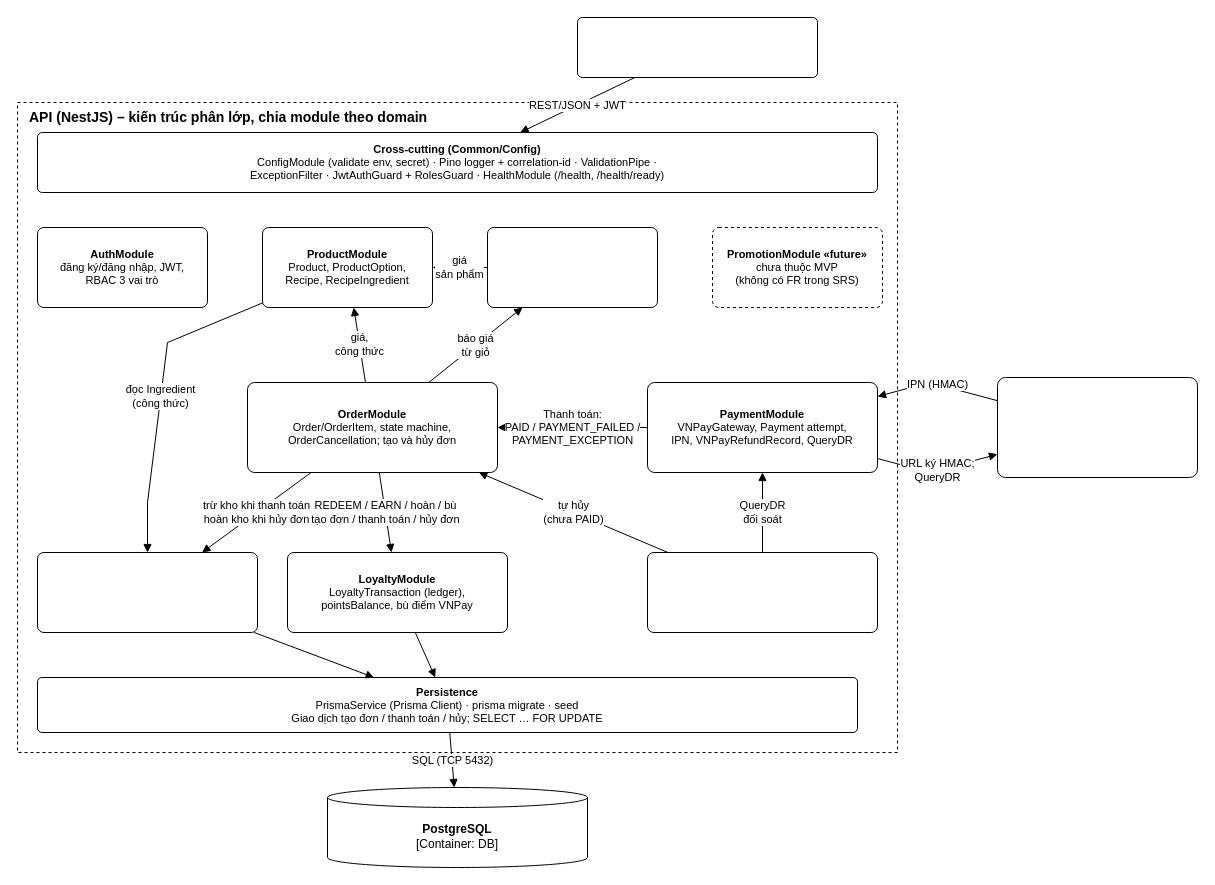
The diagram is 1215 pixels wide and 885 high, and some of its shapes have lost their labels. The centre of each missing label's shape, as x and y in pixels:
CartModule Cart/CartItem, giá tạm tính, báo giá server: the point at 572,267
InventoryModule Ingredient.quantityOnHand, OrderIngredientUsage (trừ/hoàn): the point at 147,592
SchedulerModule tự hủy đơn chưa trả hết hạn, QueryDR attempt PENDING/UNKNOWN: the point at 762,592
VNPay Sandbox [External System]: the point at 1097,427
Web App (Next.js) HTTPS, REST/JSON + JWT: the point at 697,47
